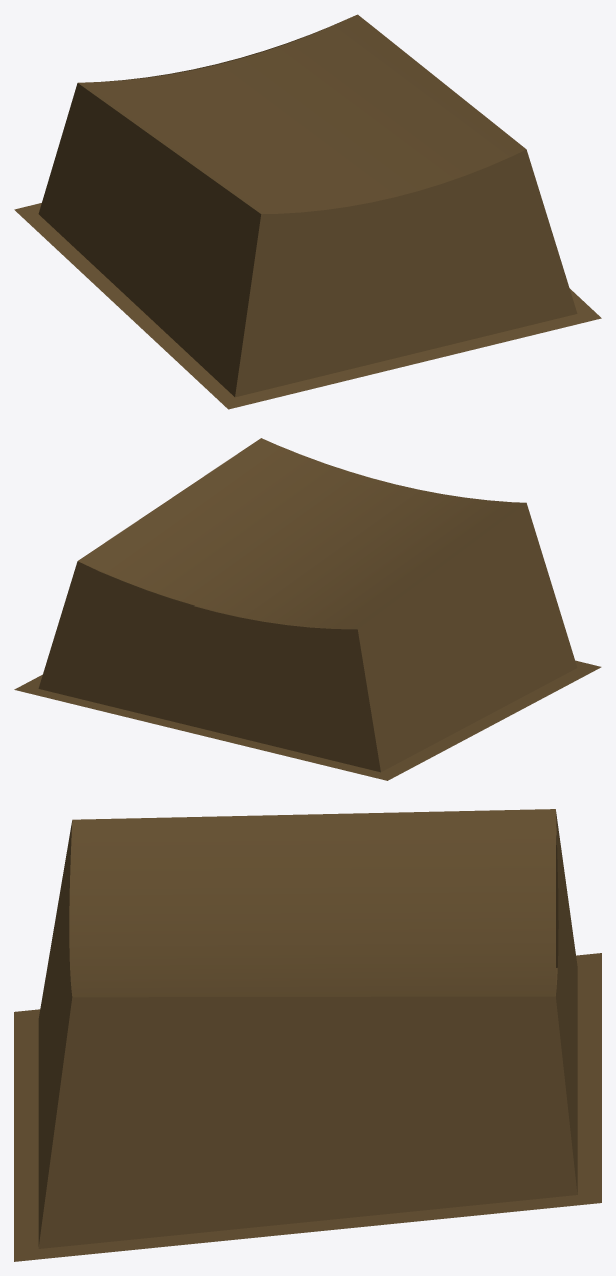
File: original-74.obj
The picture shows the model from 3 angles, top to bottom: view 1: azimuth 30°, elevation 25°; view 2: azimuth 150°, elevation 25°; view 3: azimuth 270°, elevation 25°; orthographic projection. The views are drawn at different scales.
Parts seen in each view (by area): view 1: kb_key3_19/kb_key3/mesh9/mesh9-geometry#mesh9-geometry; view 2: kb_key3_19/kb_key3/mesh9/mesh9-geometry#mesh9-geometry; view 3: kb_key3_19/kb_key3/mesh9/mesh9-geometry#mesh9-geometry.
Part boxes in pixels (x1=…): kb_key3_19/kb_key3/mesh9/mesh9-geometry#mesh9-geometry: x1=14, y1=14, x2=601, y2=409; kb_key3_19/kb_key3/mesh9/mesh9-geometry#mesh9-geometry: x1=14, y1=438, x2=601, y2=780; kb_key3_19/kb_key3/mesh9/mesh9-geometry#mesh9-geometry: x1=14, y1=809, x2=601, y2=1261.
Bounding box in the file's own units: 0.0768 × 0.0336 × 0.0764.
